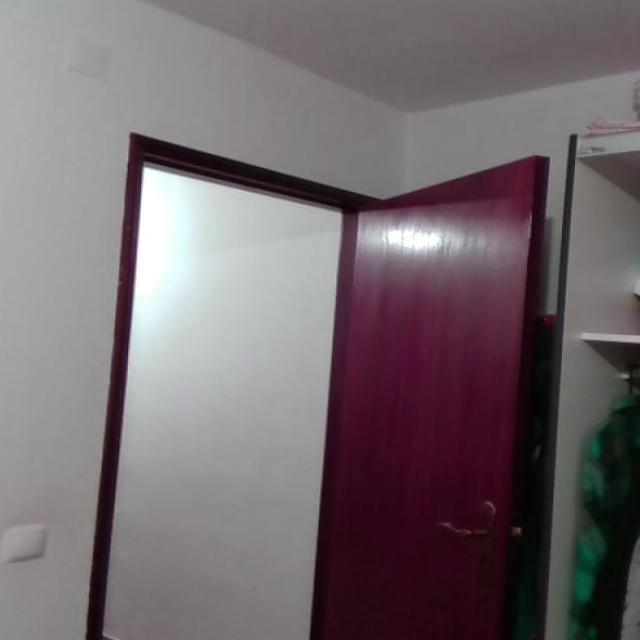door: (308, 133, 553, 640)
